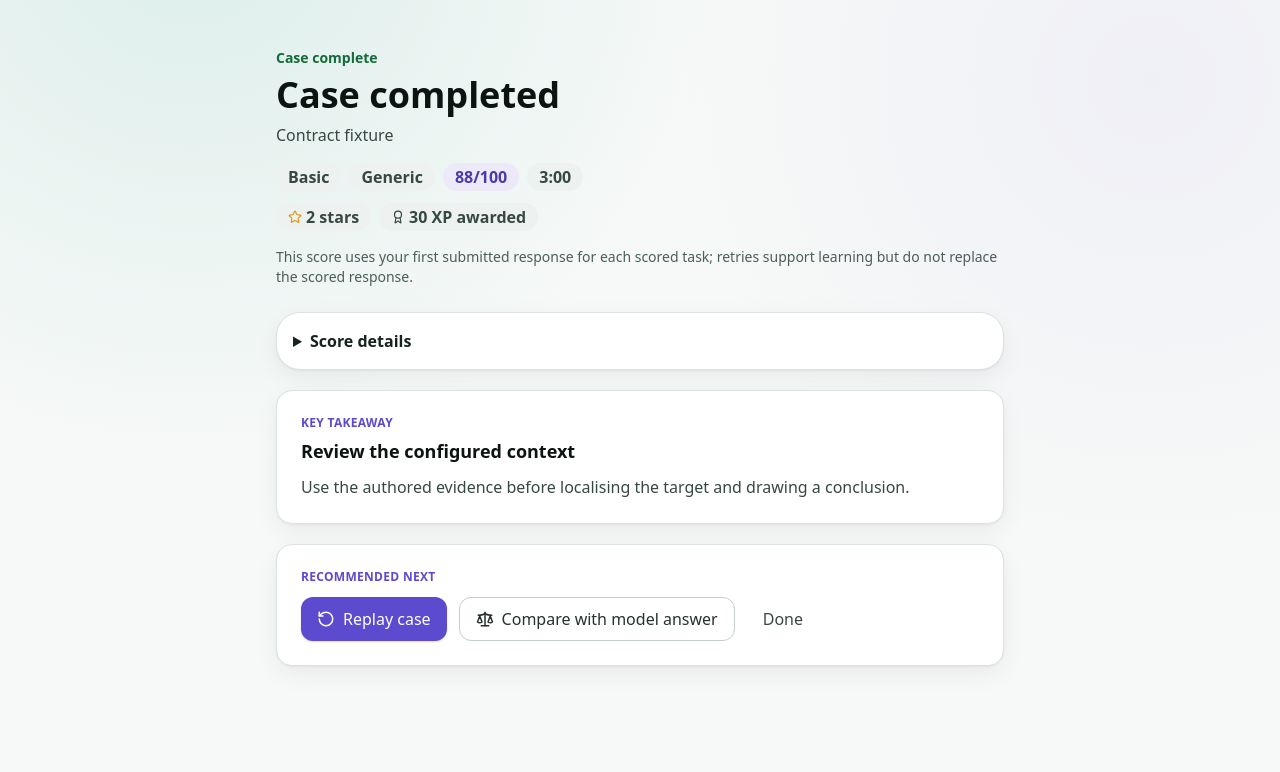
Test case: Case Lab routes › supplies saved v7 review and evidence state to results and comparison
Step 1. Click the button "Compare with model answer" → (597, 619), box x1=459 y1=597 x2=735 y2=641
(page scrolled)
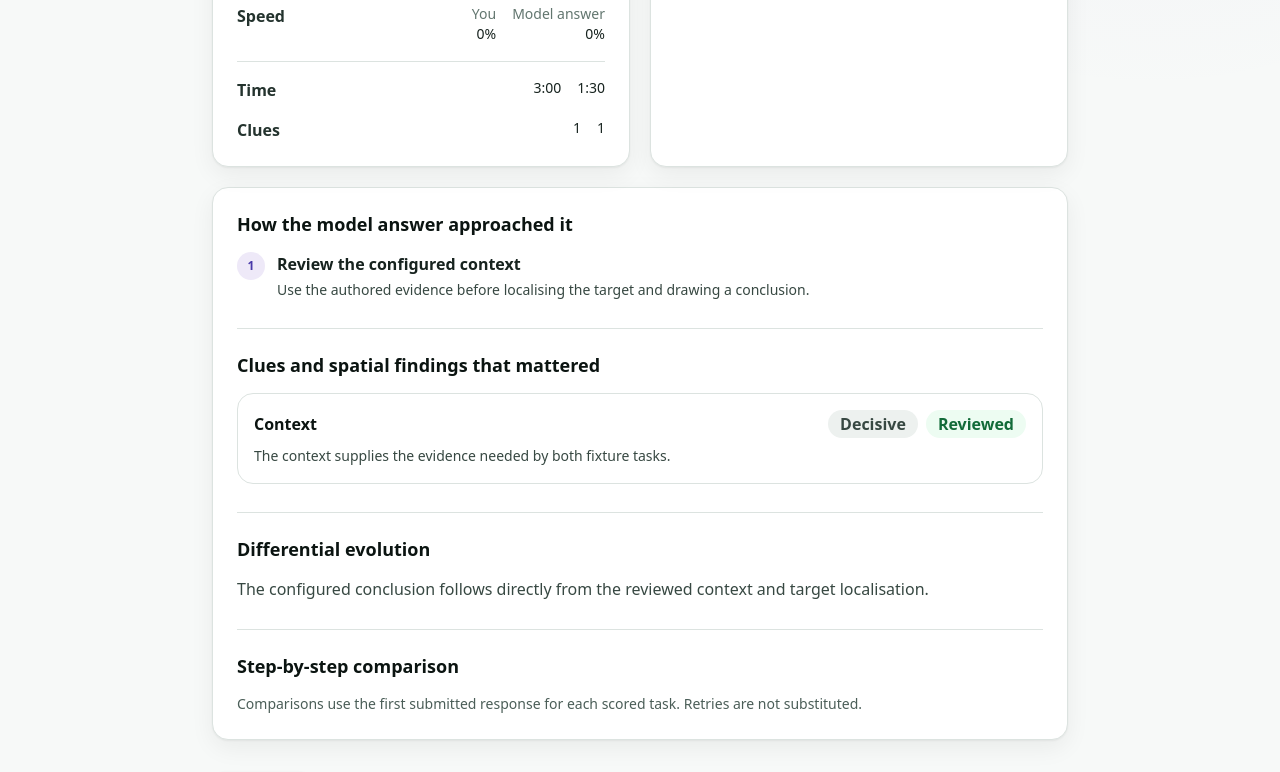
Expected: the heading "Clues and spatial findings that mattered" is shown, x1=237 y1=353 x2=600 y2=377
Expected: the text "Reviewed" is shown, x1=926 y1=410 x2=1026 y2=438
